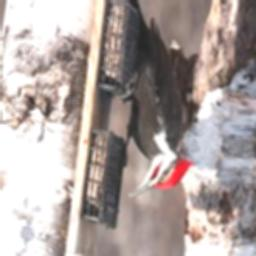Woodpecker: (114, 17, 195, 200)
